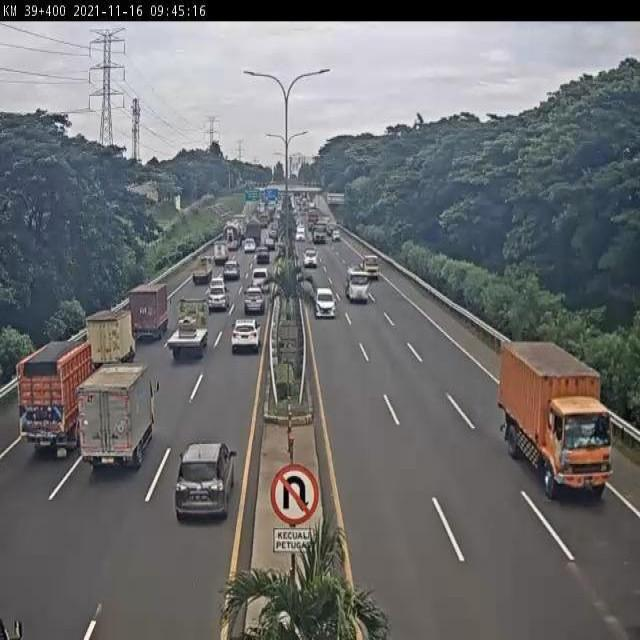car: (175, 444, 235, 525), (229, 320, 261, 356), (243, 288, 266, 319), (315, 288, 335, 317), (206, 291, 226, 316), (221, 260, 240, 283), (207, 279, 225, 296)
truck: (500, 346, 611, 498), (20, 342, 95, 454), (78, 364, 156, 468), (86, 312, 136, 373), (167, 298, 210, 358), (129, 283, 170, 339), (191, 255, 213, 281), (251, 267, 270, 292)
